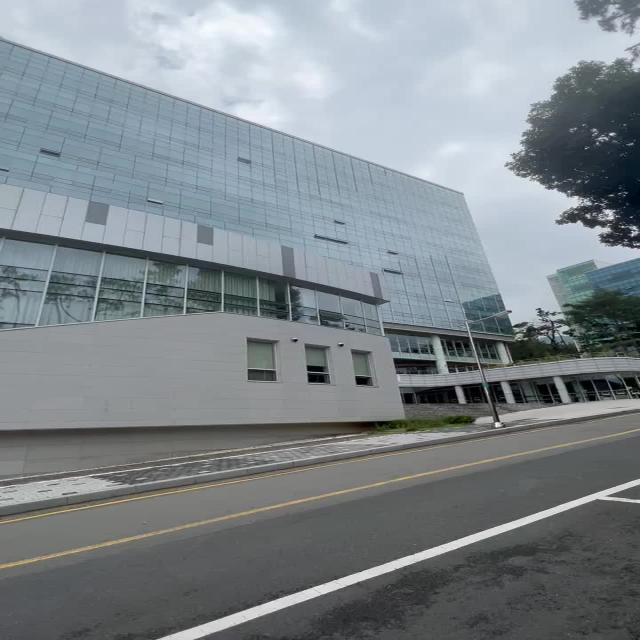building: (23, 78, 510, 427)
